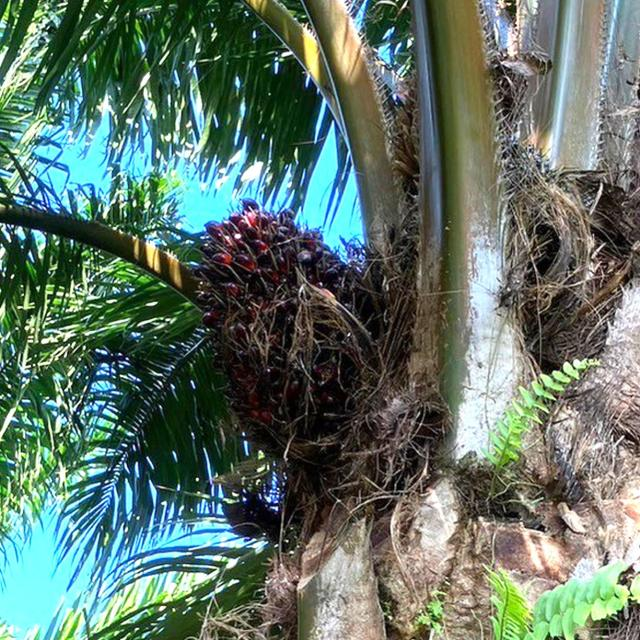ripe: (190, 199, 360, 481)
